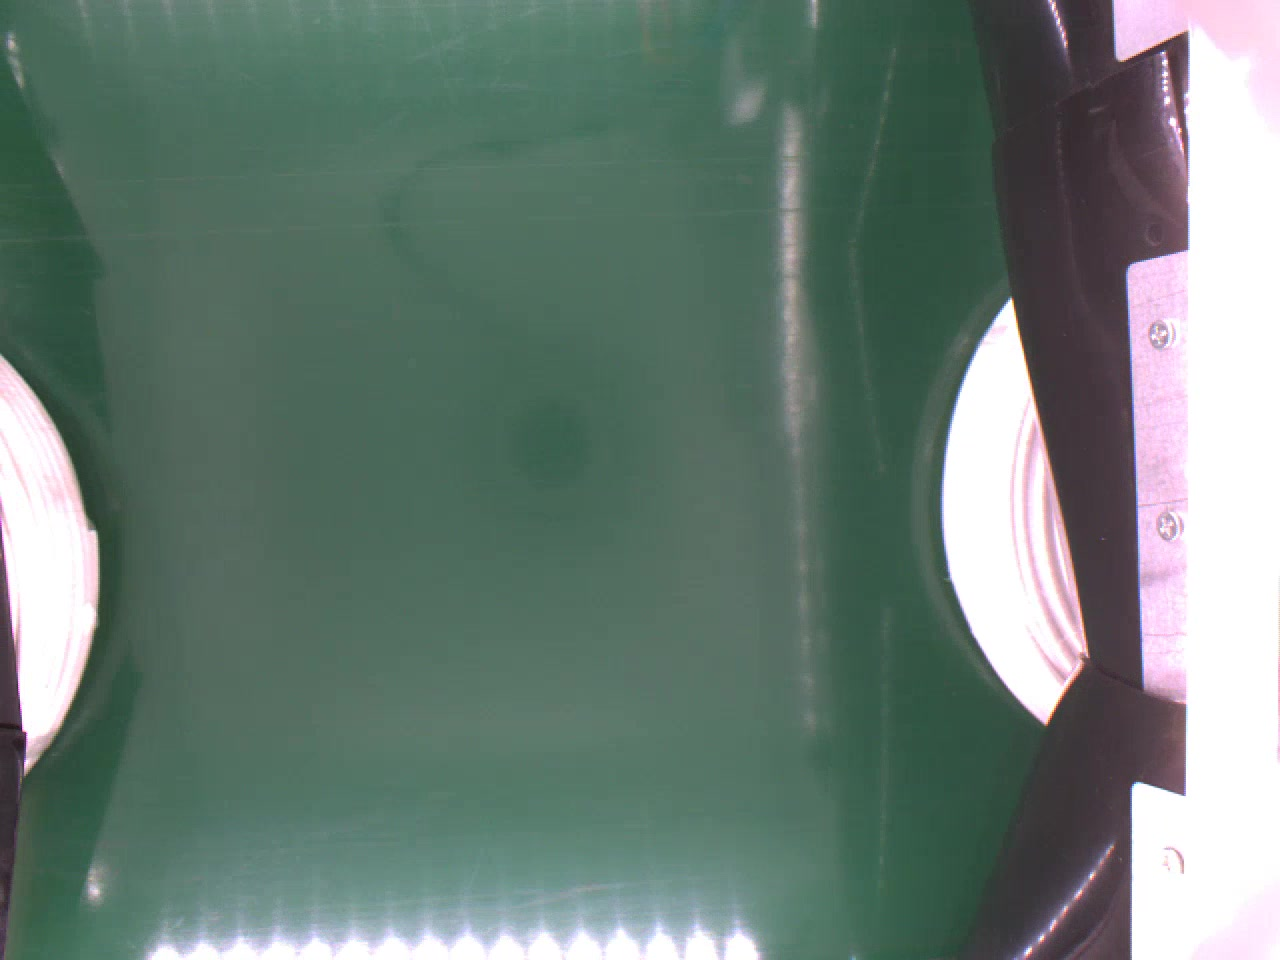white: (939, 293, 1084, 722)
